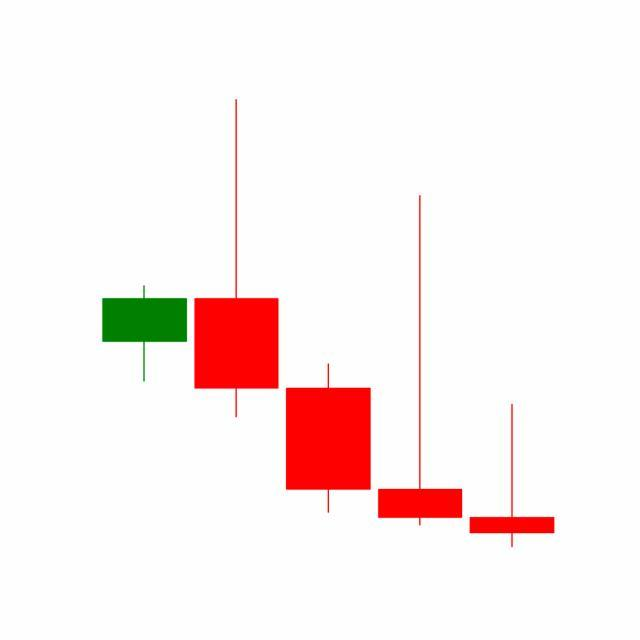Gravestone Doji: (466, 402, 559, 550)
